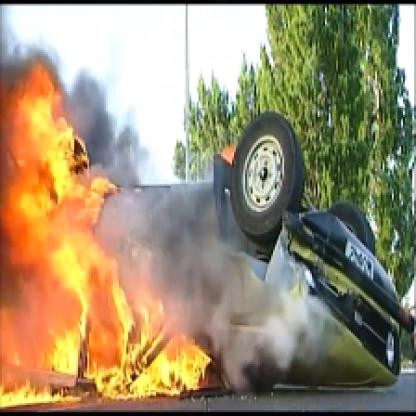Fire: (2, 61, 212, 409)
